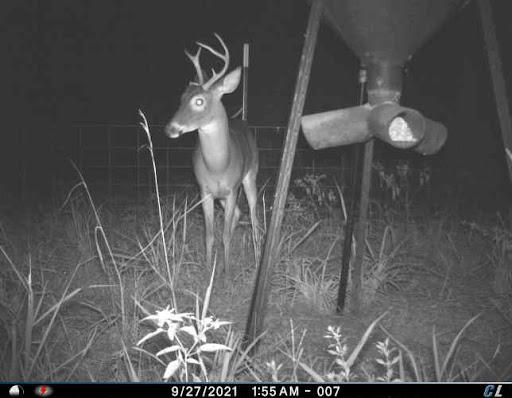Deer: (160, 25, 276, 275)
